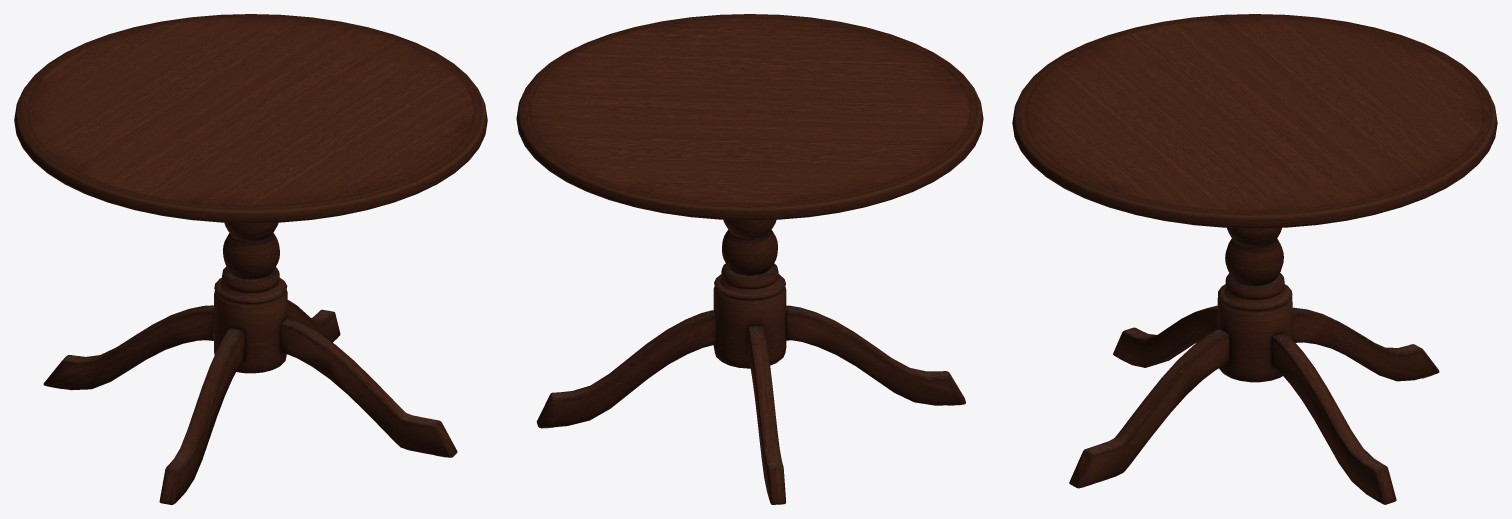
The model's file is round_wooden_table_01.glb.
The picture shows the model from 3 angles, left to right: view 1: azimuth 30°, elevation 25°; view 2: azimuth 150°, elevation 25°; view 3: azimuth 270°, elevation 25°; orthographic projection. The views are drawn at different scales.
Visible parts, largest first — view 1: round_wooden_table_01; view 2: round_wooden_table_01; view 3: round_wooden_table_01.
Boxes of the visible parts, x1=… form: round_wooden_table_01: x1=14, y1=14, x2=487, y2=504; round_wooden_table_01: x1=516, y1=14, x2=983, y2=504; round_wooden_table_01: x1=1012, y1=14, x2=1497, y2=504.
Size of the model in its own units: 1.4 by 1 by 1.4.
Materials: 1 (1 with a texture image).
